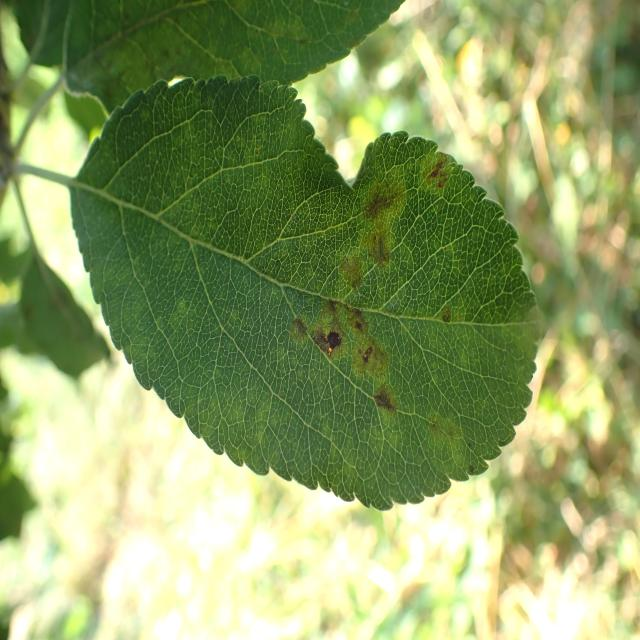scab: (173, 130, 535, 490), (63, 4, 328, 135)
